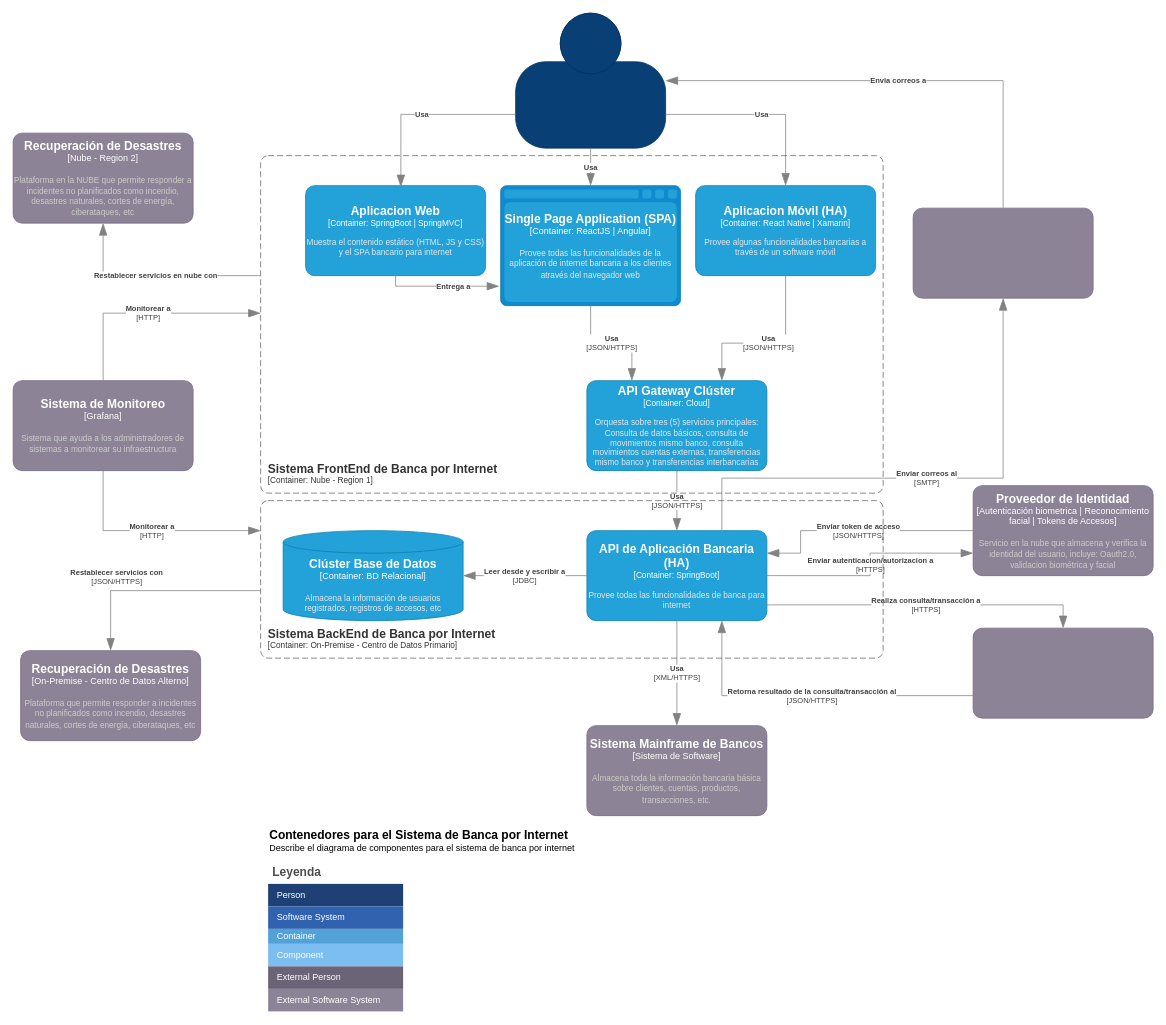
The diagram is 1166 pixels wide and 1025 high, and some of its shapes have lost their labels. Each missing label, with the centre of its shape:
"Cliente del Banco [Persona] Un cliente del banco con cuentas bancarias en el BP" belongs at point 590,80.
"Otros Bancos [Sistema de Software] Bancos distintos a Banco Pichincha" belongs at point 1062,672.
"Sistema de Correos [Sengrid] Maneja el sistema interno de correos" belongs at point 1002,252.
